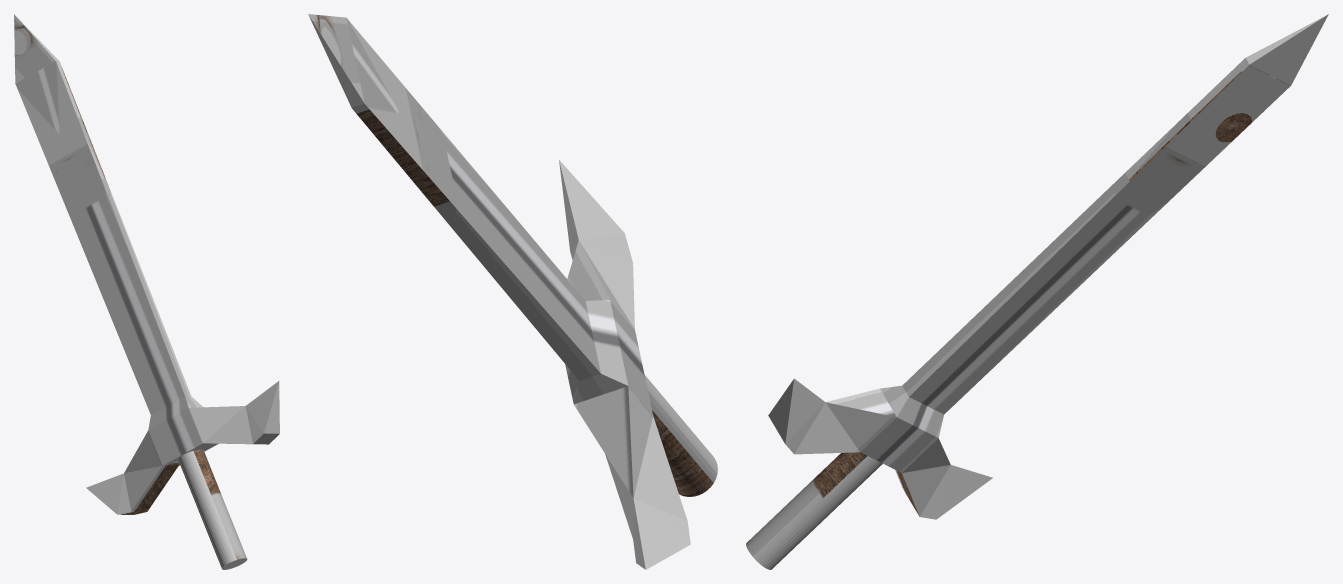
Rendered from Protagonista119.obj.
The picture shows the model from 3 angles, left to right: view 1: azimuth 30°, elevation 25°; view 2: azimuth 150°, elevation 25°; view 3: azimuth 270°, elevation 25°; orthographic projection. The views are drawn at different scales.
Visible parts, largest first — view 1: Cube; view 2: Cube; view 3: Cube.
Boxes of the visible parts, x1,y1,x2,y2 form: Cube: (14, 14, 279, 569); Cube: (308, 14, 717, 569); Cube: (746, 14, 1328, 569).
Size of the model in its own units: 0.3958 by 1.29 by 1.24.
Materials: 1 (1 with a texture image).
